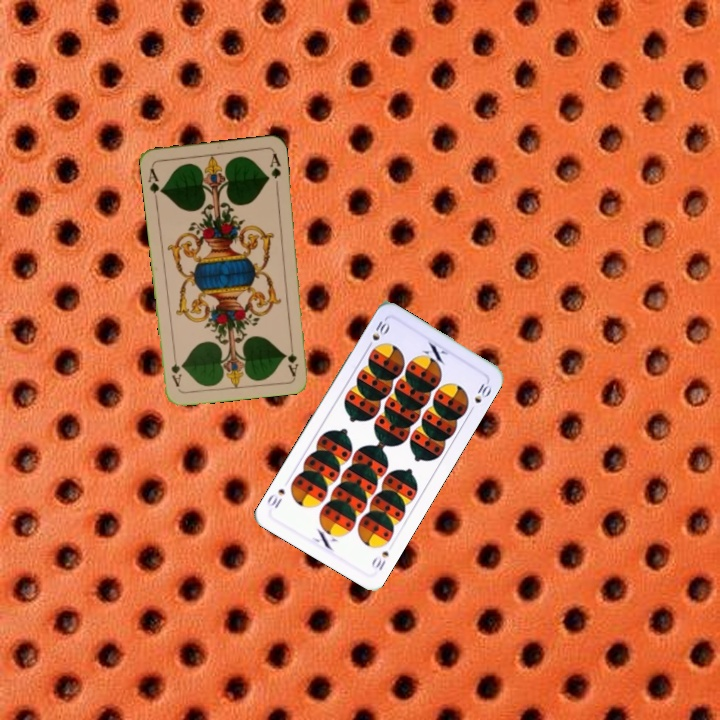GA: (144, 163, 166, 203), (285, 337, 301, 378)
S10: (363, 317, 392, 352), (372, 547, 391, 574)
